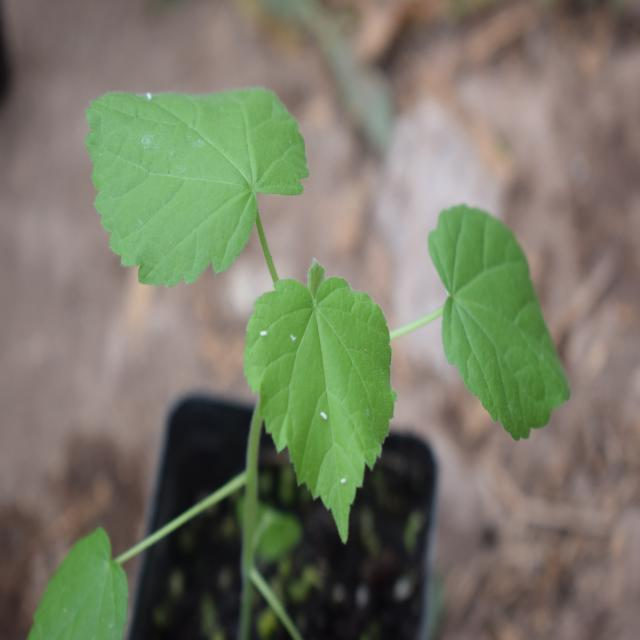abutilon theophrasti: (85, 79, 545, 537)
